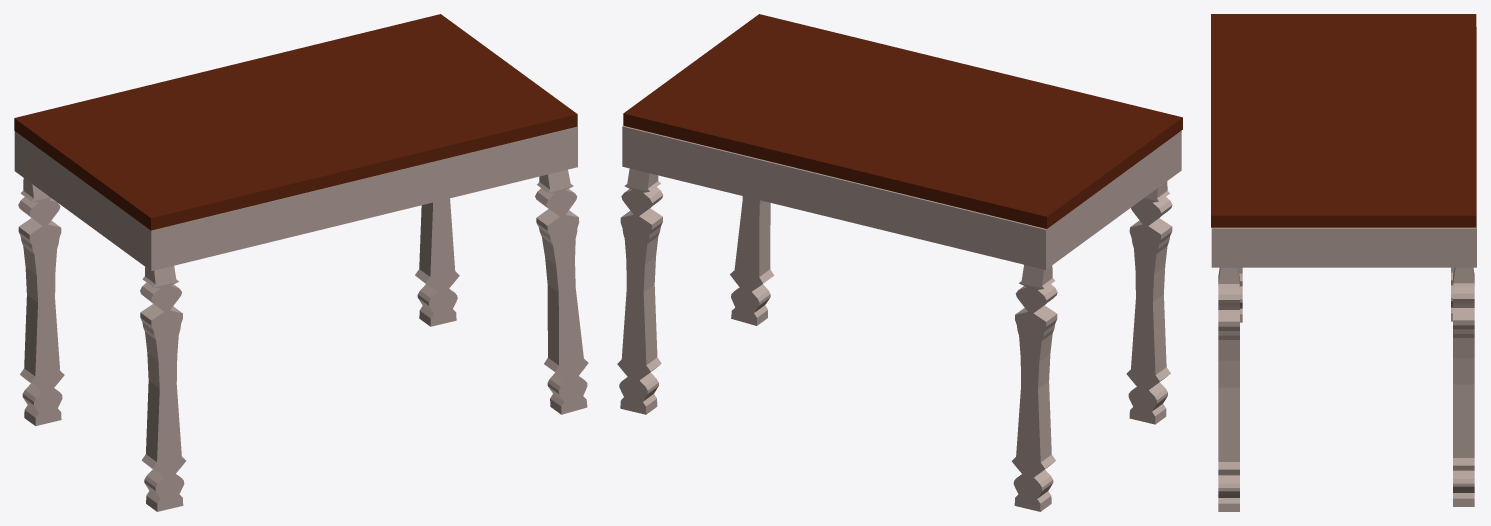
File: mesa.fbx
3 views of the same model, side by side, from view 1: azimuth 30°, elevation 25°; view 2: azimuth 150°, elevation 25°; view 3: azimuth 270°, elevation 25° (orthographic). The views are drawn at different scales.
Parts seen in each view (by area): view 1: Cube; view 2: Cube; view 3: Cube.
Boxes of the visible parts, x1,y1,x2,y2 form: Cube: (14, 14, 588, 511); Cube: (617, 14, 1182, 511); Cube: (1211, 14, 1476, 511).
Bounding box in the file's own units: 497 × 324 × 268.
